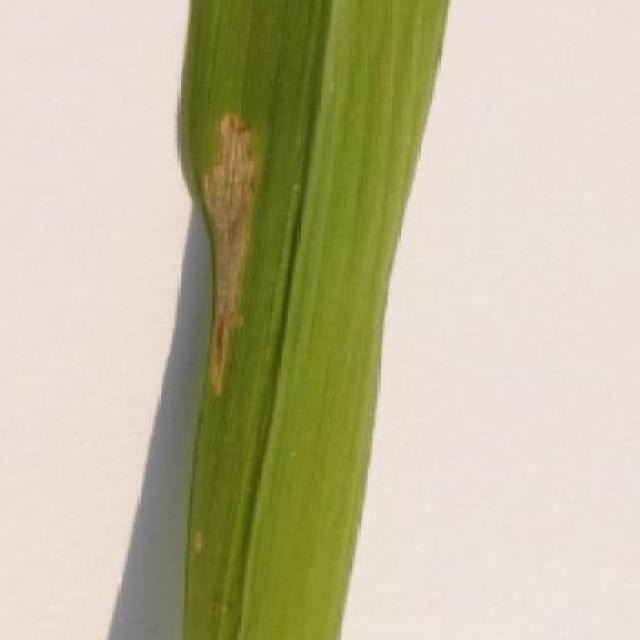Brown_Spot: (180, 0, 455, 640)
